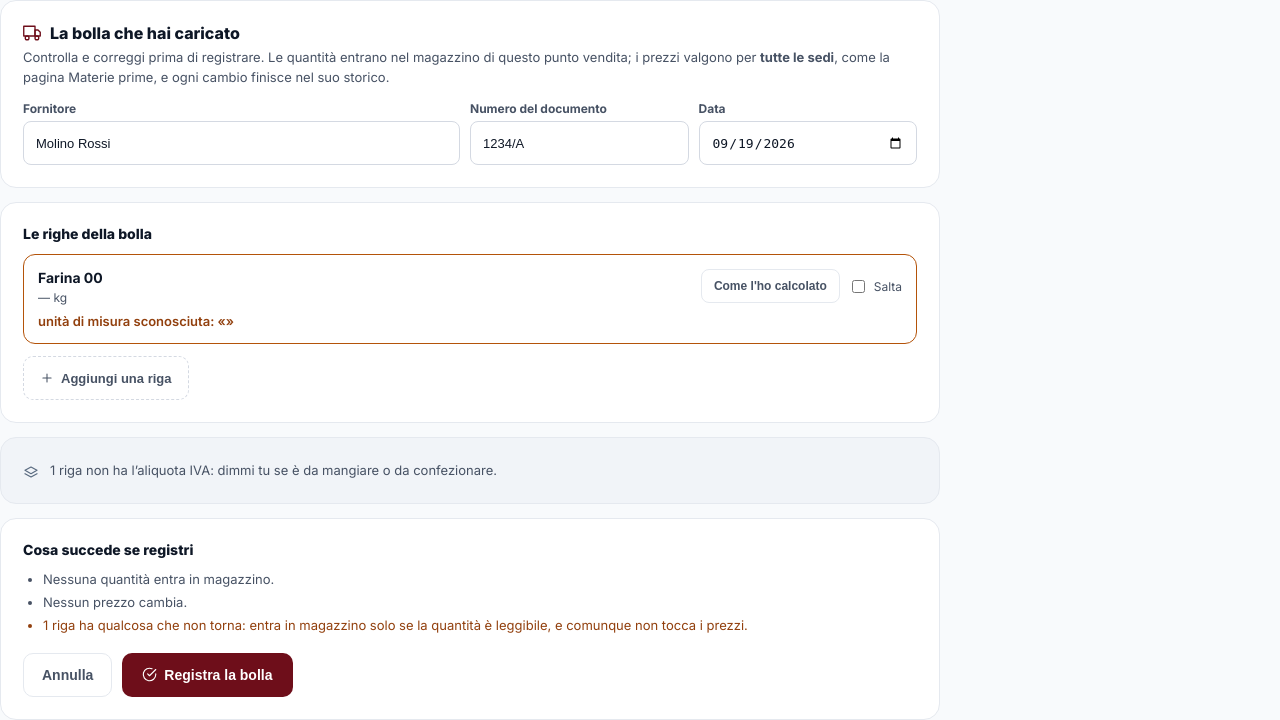
Il menù delle unità contiene anche quello che c'è scritto sulla bolla › senza unità il menù lo dice, invece di sembrare un campo mai compilato
Click the button "Come l'ho calcolato" at (770, 286), box x1=701 y1=269 x2=840 y2=303
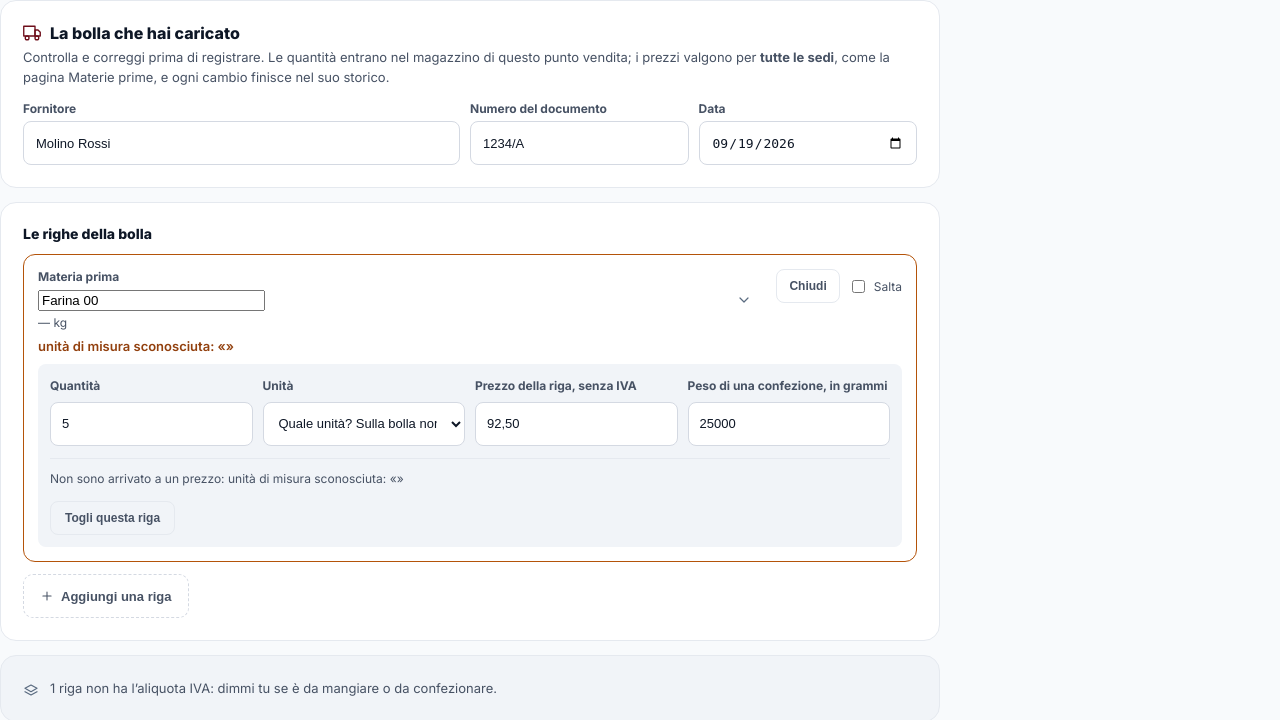
expect the dropdown labelled "Unità" shows "Quale unità? Sulla bolla non l'ho trovata": met, box x1=262 y1=402 x2=465 y2=446
